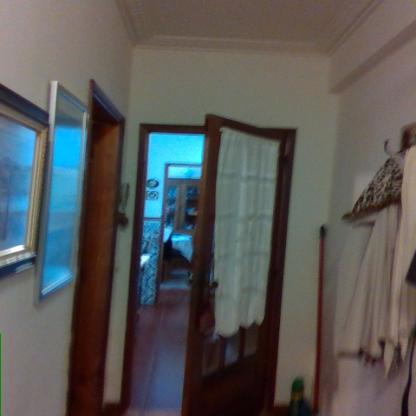semi: (112, 113, 299, 415)
